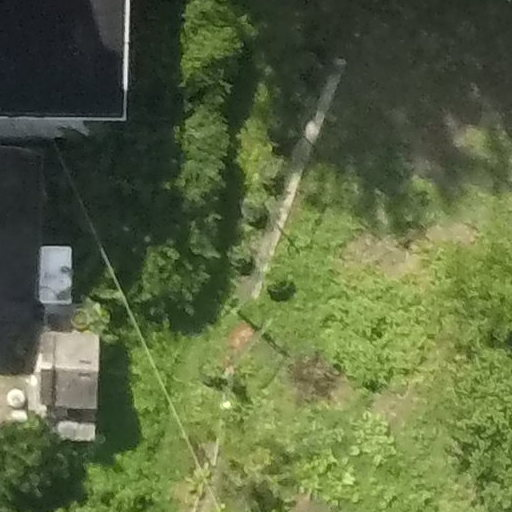container: (65, 303, 96, 333), (6, 384, 27, 408)
